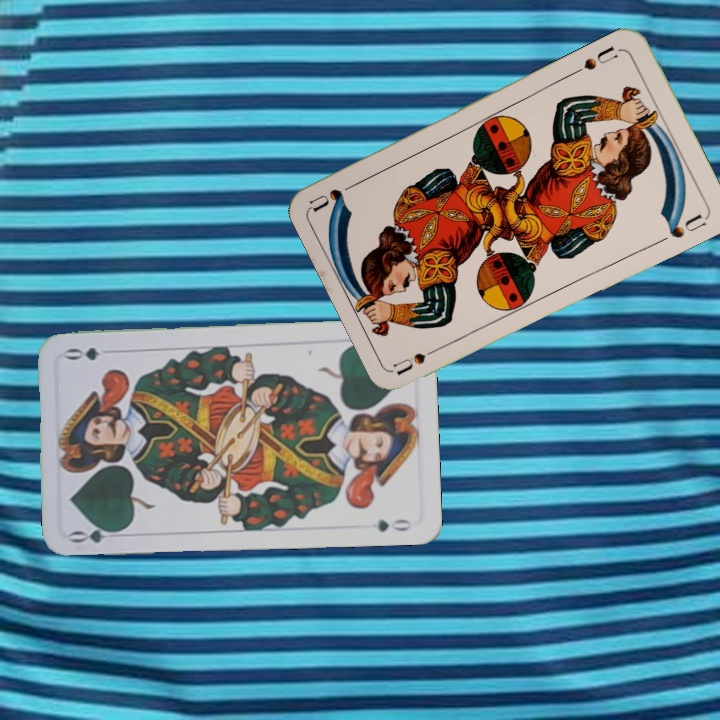GO: (67, 521, 126, 546)
SU: (391, 340, 448, 378), (569, 42, 620, 77)
